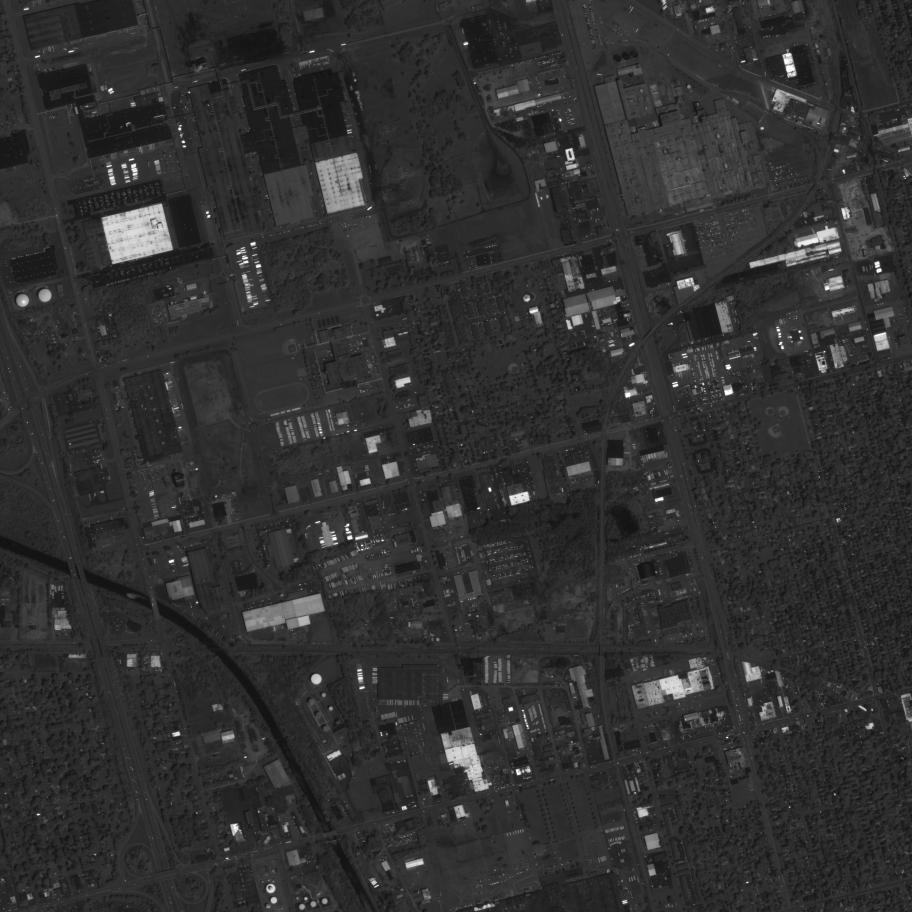storage-tank: (38, 289, 52, 302), (16, 294, 29, 307), (310, 674, 322, 685), (266, 884, 276, 893), (270, 897, 278, 904), (323, 725, 330, 732), (299, 904, 306, 910), (311, 901, 317, 908), (315, 712, 322, 718), (309, 699, 315, 705), (322, 899, 328, 904), (336, 720, 341, 725), (329, 706, 334, 711), (321, 693, 326, 698), (267, 904, 271, 908), (304, 897, 308, 901), (687, 85, 691, 89)
